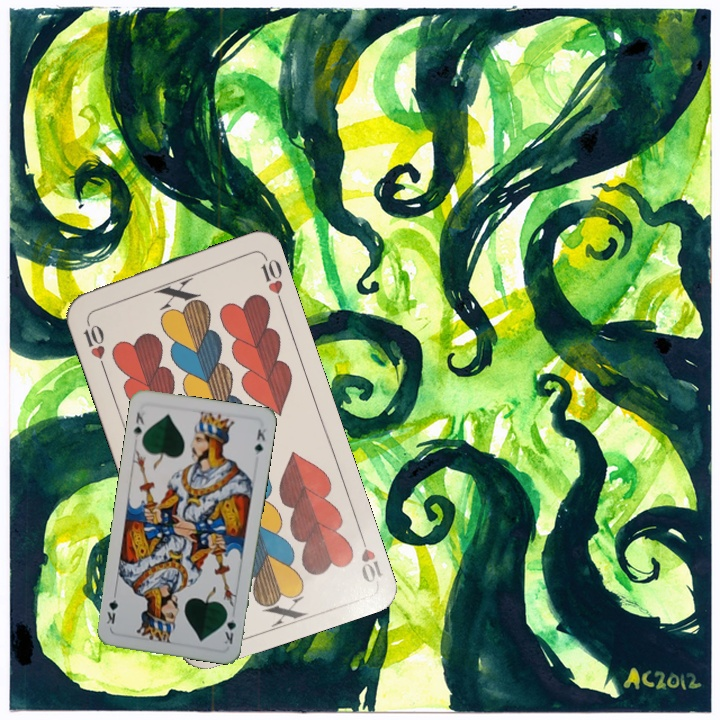GK: (220, 607, 239, 647), (129, 408, 147, 440)
H10: (355, 527, 385, 586), (79, 314, 108, 372)
